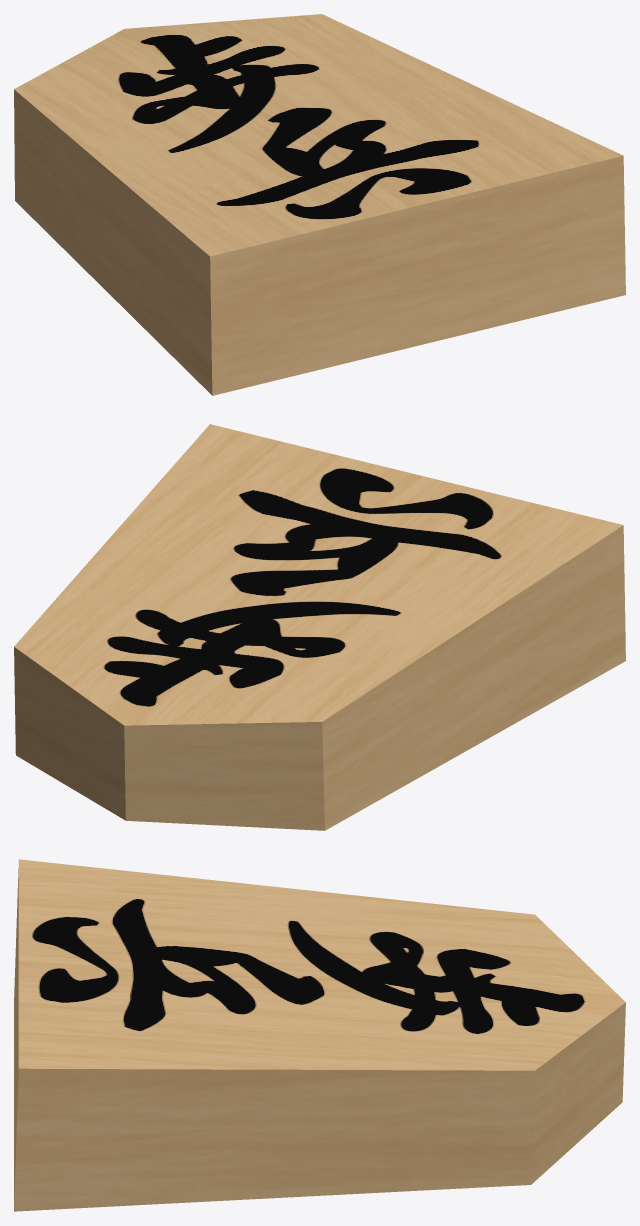
3 views of the same model, one above another, from view 1: azimuth 30°, elevation 25°; view 2: azimuth 150°, elevation 25°; view 3: azimuth 270°, elevation 25° (orthographic). The views are drawn at different scales.
Visible parts, largest first — view 1: hu1; view 2: hu1; view 3: hu1.
Part boxes in pixels (box(x1,y1,x2,y2)): hu1: box(14, 14, 625, 395); hu1: box(14, 424, 625, 830); hu1: box(14, 859, 625, 1211).
Size of the model in its own units: 22 by 7 by 27.17.
Materials: 1 (1 with a texture image).
